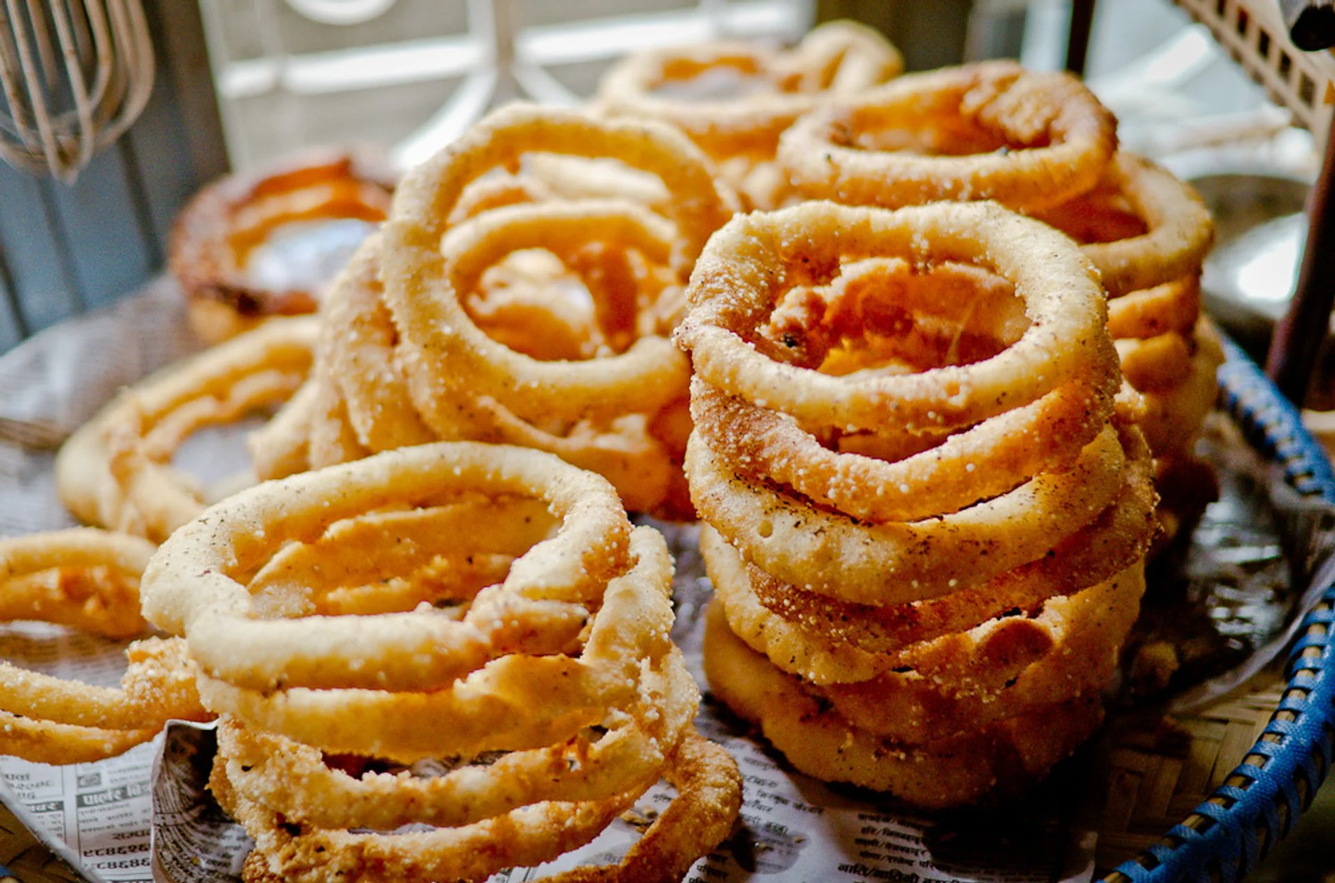sel_roti: (144, 445, 623, 676), (385, 113, 698, 401), (684, 197, 1103, 405), (70, 308, 327, 493), (786, 56, 1117, 199), (225, 762, 677, 848), (0, 535, 160, 755)
